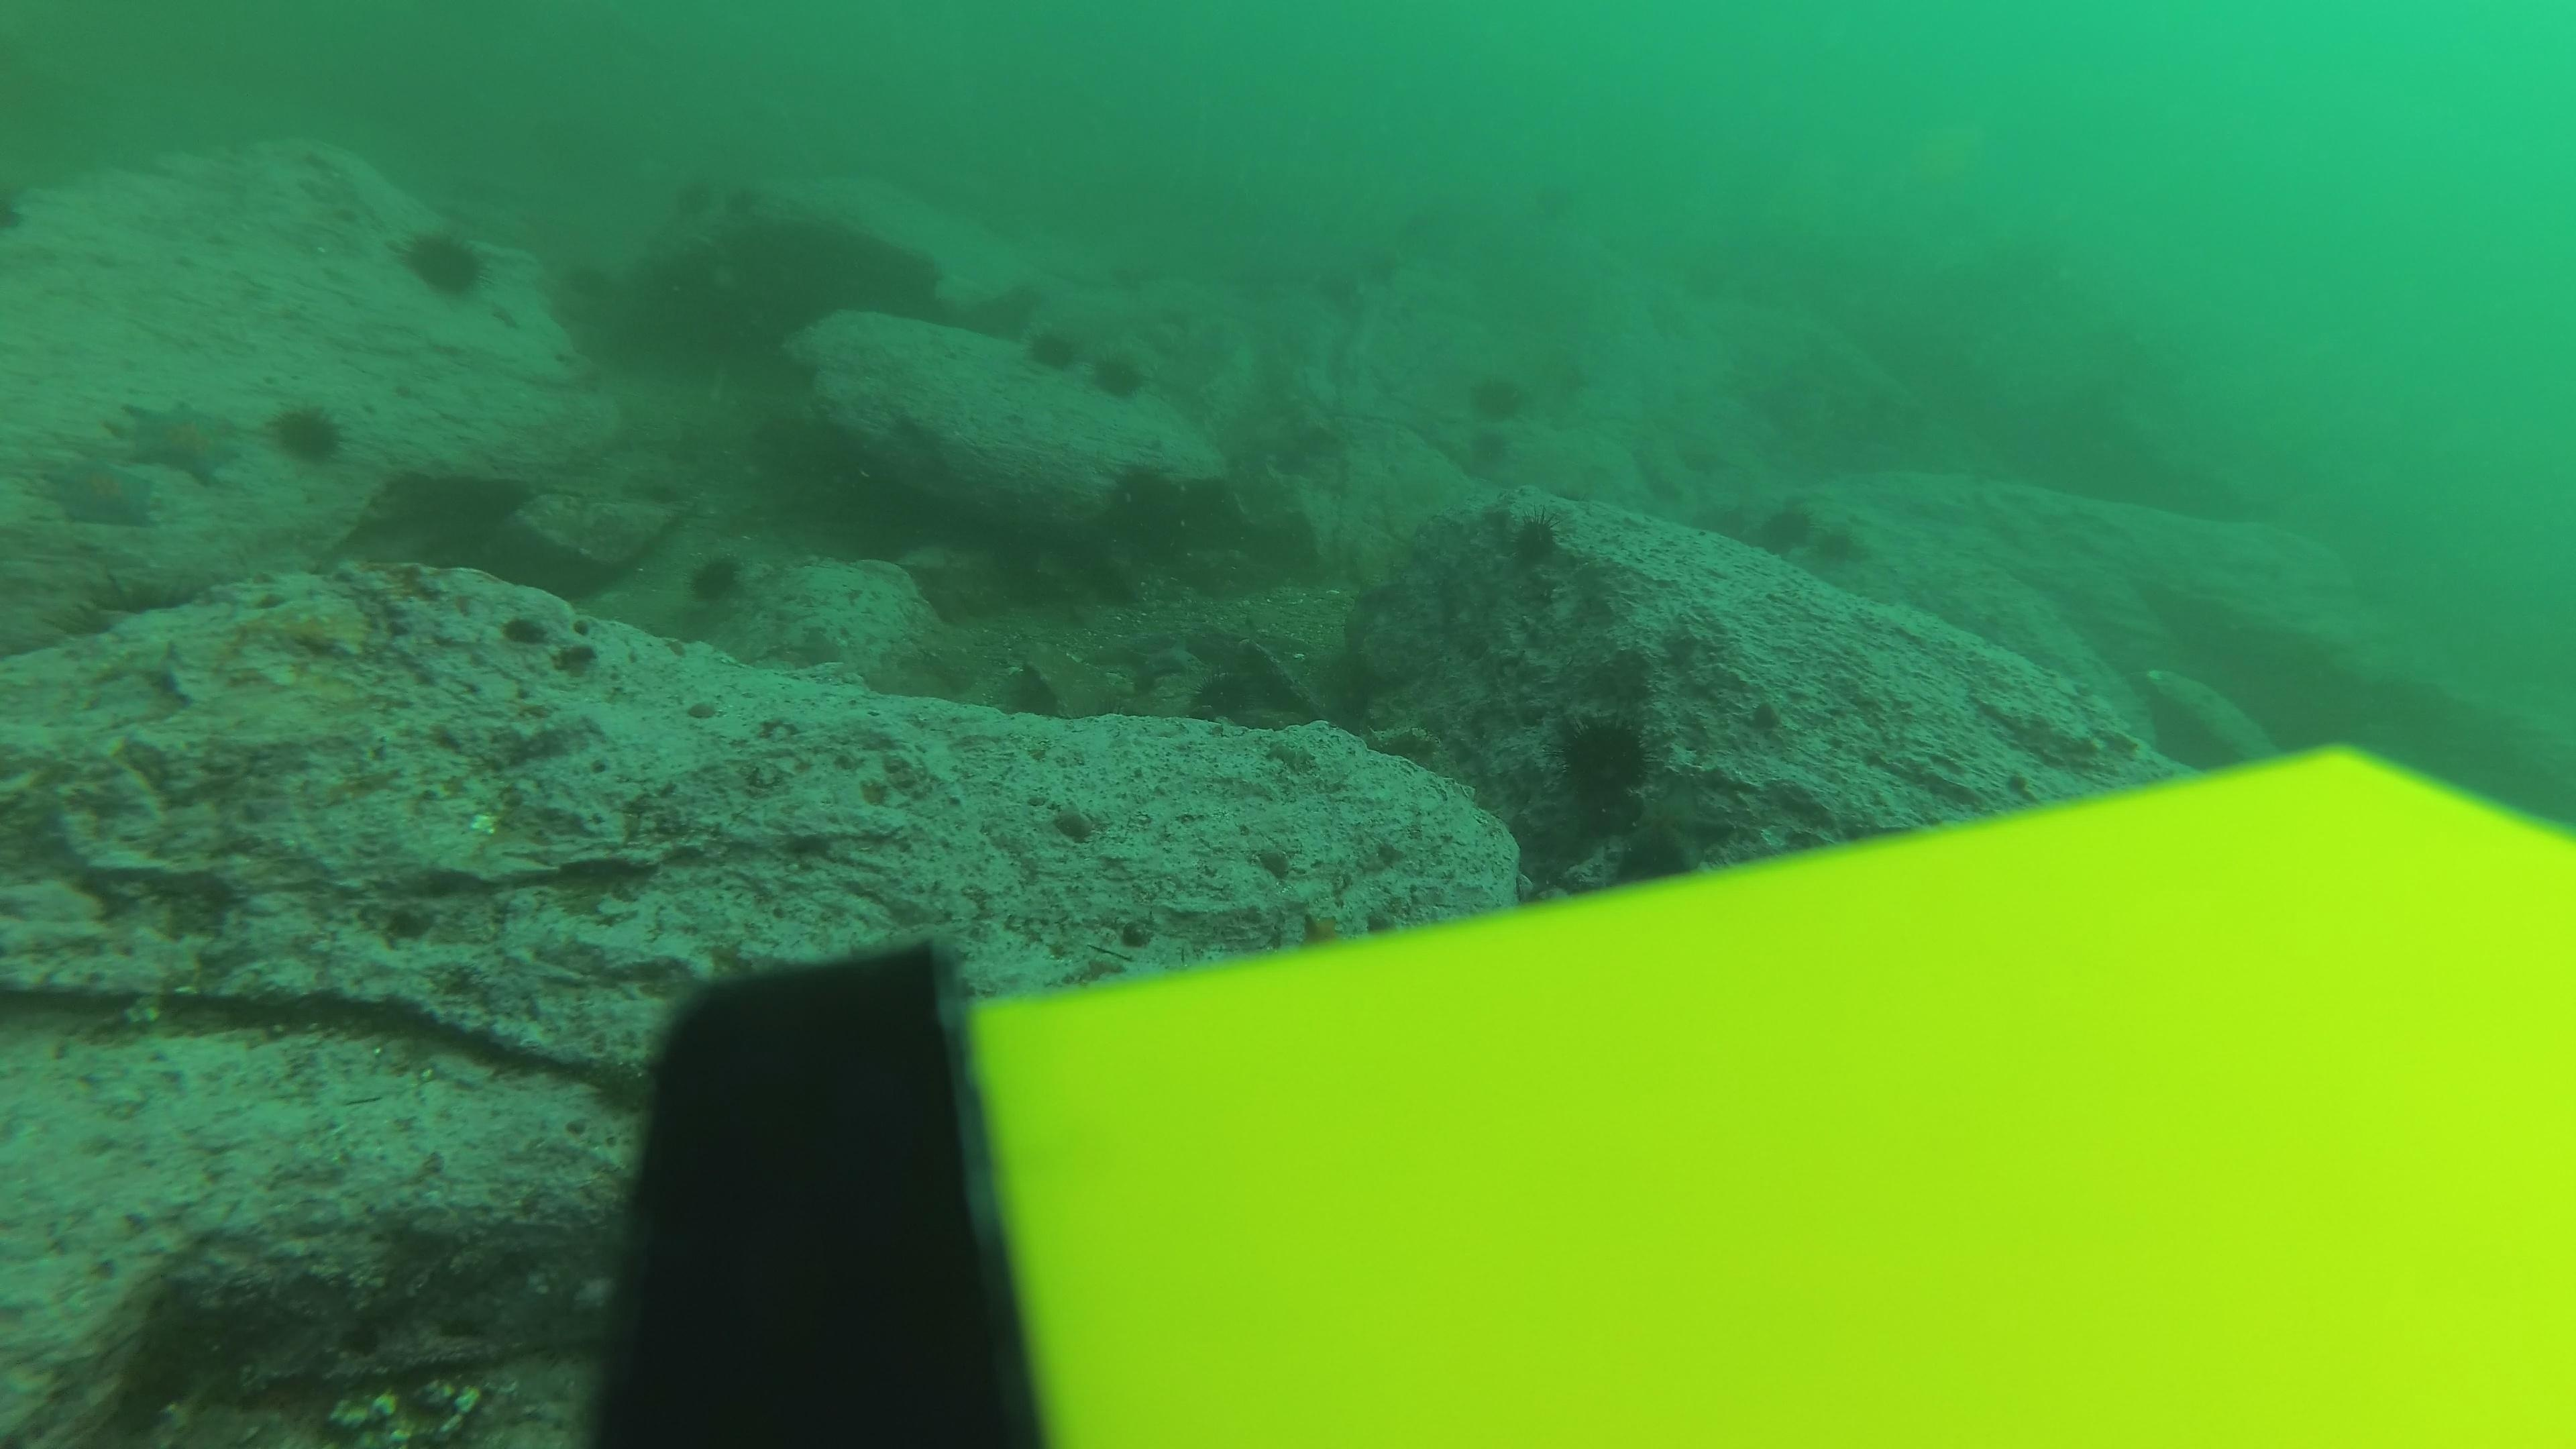echinus: (1548, 708, 1660, 819), (395, 218, 495, 304), (674, 547, 761, 640), (267, 395, 350, 469), (1500, 508, 1568, 573), (1191, 658, 1258, 720), (1463, 366, 1532, 426), (1085, 345, 1152, 405), (1019, 318, 1085, 377), (1759, 508, 1821, 556), (1465, 423, 1520, 471), (725, 182, 771, 223), (1108, 253, 1154, 294), (1350, 242, 1396, 283), (1407, 198, 1453, 239), (1681, 258, 1727, 299), (667, 175, 713, 214), (559, 255, 605, 294), (1311, 269, 1357, 308), (1527, 184, 1573, 223)
starfish: (1601, 778, 1741, 879), (111, 395, 248, 487), (37, 453, 165, 533), (1116, 635, 1200, 690)
